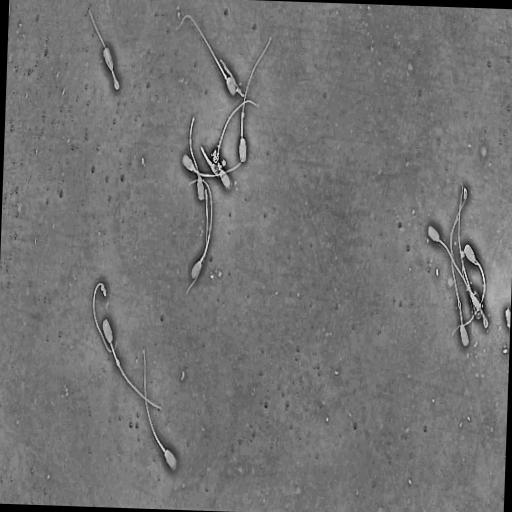dirt-particles: (211, 149, 218, 165), (221, 159, 226, 166)
distal-droplet: (240, 109, 245, 120), (457, 300, 461, 310), (115, 358, 119, 367)
folded-tail: (87, 8, 119, 91)
loose-tail: (185, 185, 208, 295), (90, 279, 118, 354)
normal: (99, 314, 165, 412), (178, 13, 237, 98), (139, 345, 178, 472), (237, 34, 272, 163), (216, 99, 258, 188), (450, 241, 486, 337), (448, 184, 469, 347), (425, 221, 471, 294), (186, 177, 214, 280), (88, 8, 120, 92), (179, 146, 246, 178), (188, 114, 206, 202)
proximal-droplet: (216, 162, 221, 171), (473, 258, 478, 264), (200, 256, 203, 261)
